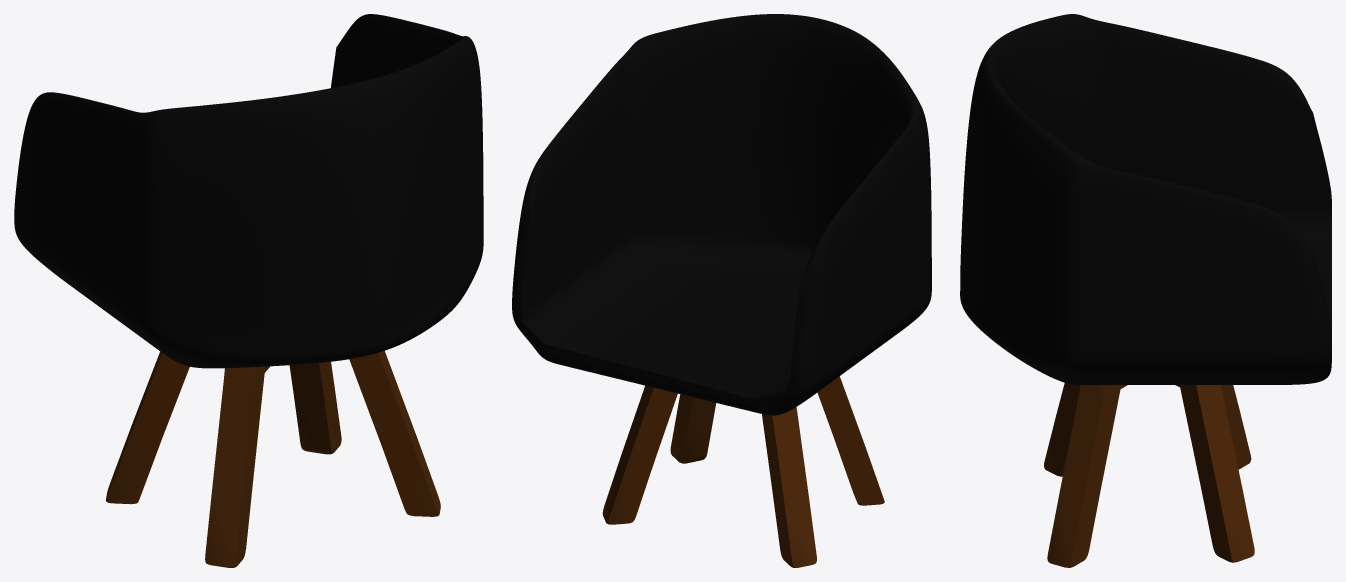
File: Modelo3DSilla01.fbx
3 renders of one model, left to right at view 1: azimuth 30°, elevation 25°; view 2: azimuth 150°, elevation 25°; view 3: azimuth 270°, elevation 25°, orthographic. The views are drawn at different scales.
Visible parts, largest first — view 1: Box005, Box001; view 2: Box005, Box001; view 3: Box005, Box001.
Boxes of the visible parts, x1,y1,x2,y2 form: Box005: [14, 14, 483, 368]; Box001: [106, 351, 440, 567]; Box005: [512, 14, 931, 415]; Box001: [602, 376, 884, 567]; Box005: [960, 14, 1331, 384]; Box001: [1044, 383, 1254, 567].
Bounding box in the file's own units: 70.87 × 96.54 × 72.17.
